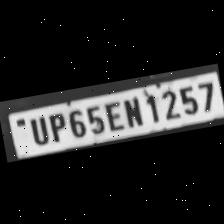1: (140, 89, 161, 123)
2: (157, 85, 180, 121)
5: (174, 80, 199, 116), (82, 101, 106, 135)
6: (63, 104, 87, 138)
7: (194, 77, 218, 112)
E: (102, 97, 124, 131)
N: (119, 92, 146, 128)
P: (44, 109, 68, 143)
U: (24, 112, 50, 145)
